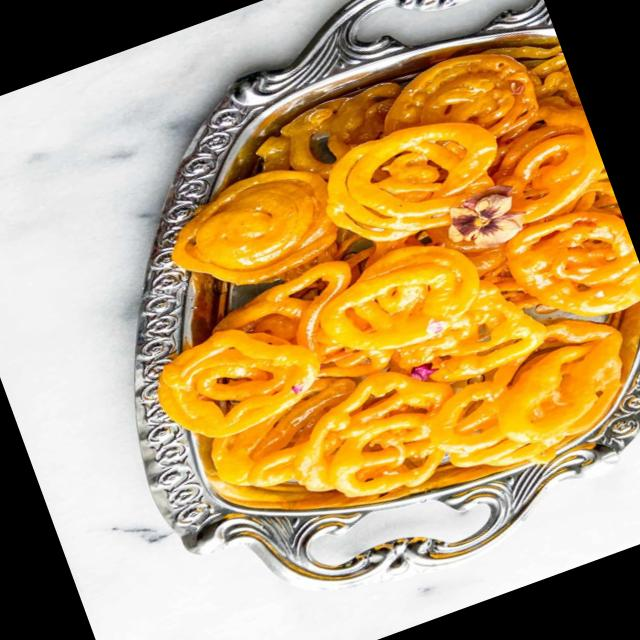jalebi: (159, 12, 640, 537)
